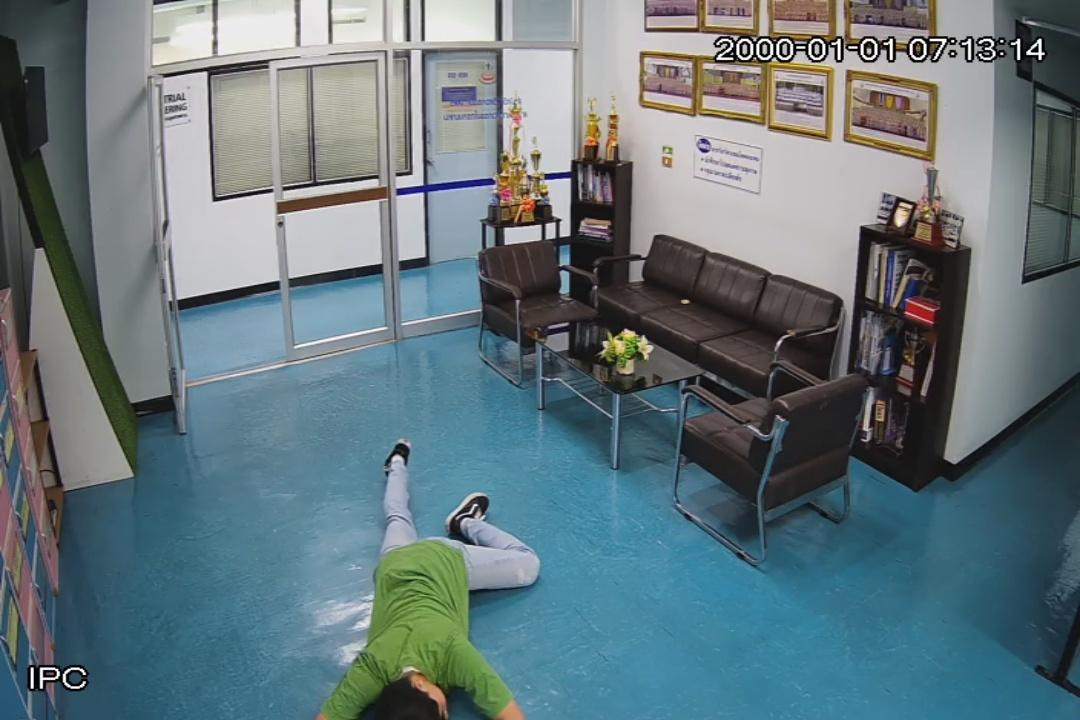fall: (310, 428, 543, 720)
